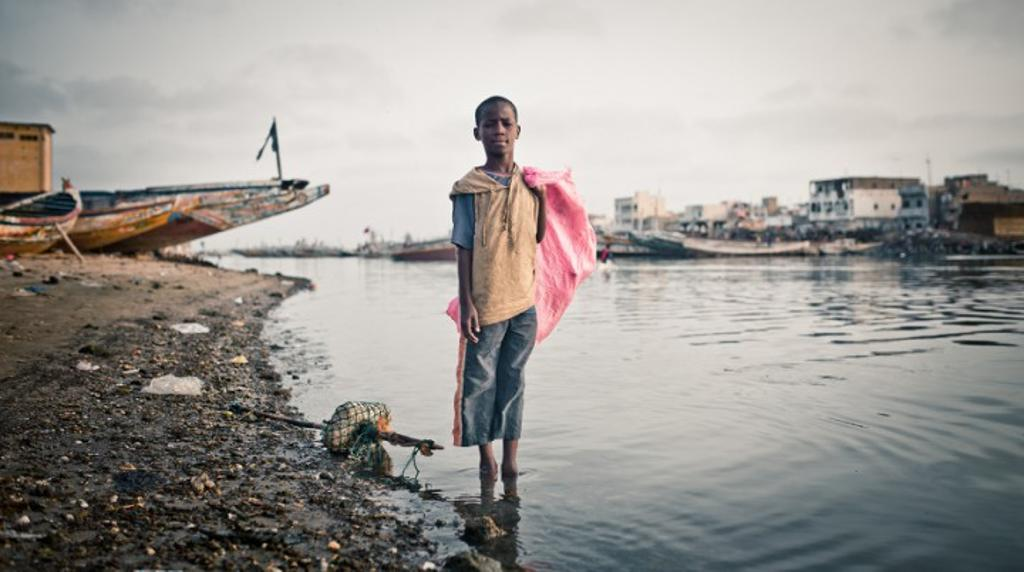face: (478, 107, 515, 153)
